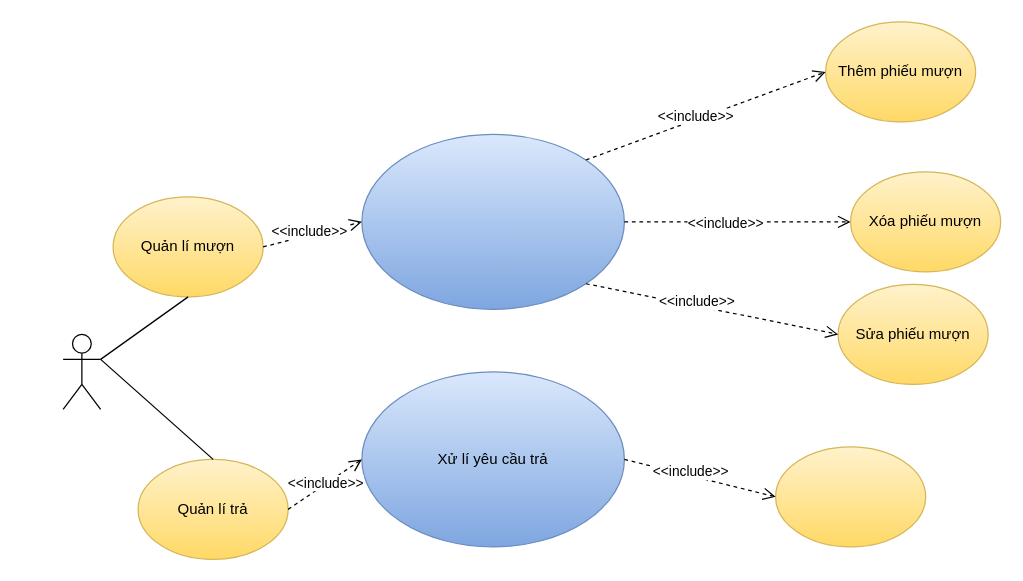
The diagram is 1023 pixels wide and 581 high, and some of its shapes have lost their labels. Each missing label, with the centre of its shape:
Cập nhật phiếu mượn: (x=850, y=496)
Nhân viên/Quản lí: (x=81, y=371)
Xử lí yêu cầu mượn: (x=492, y=221)
